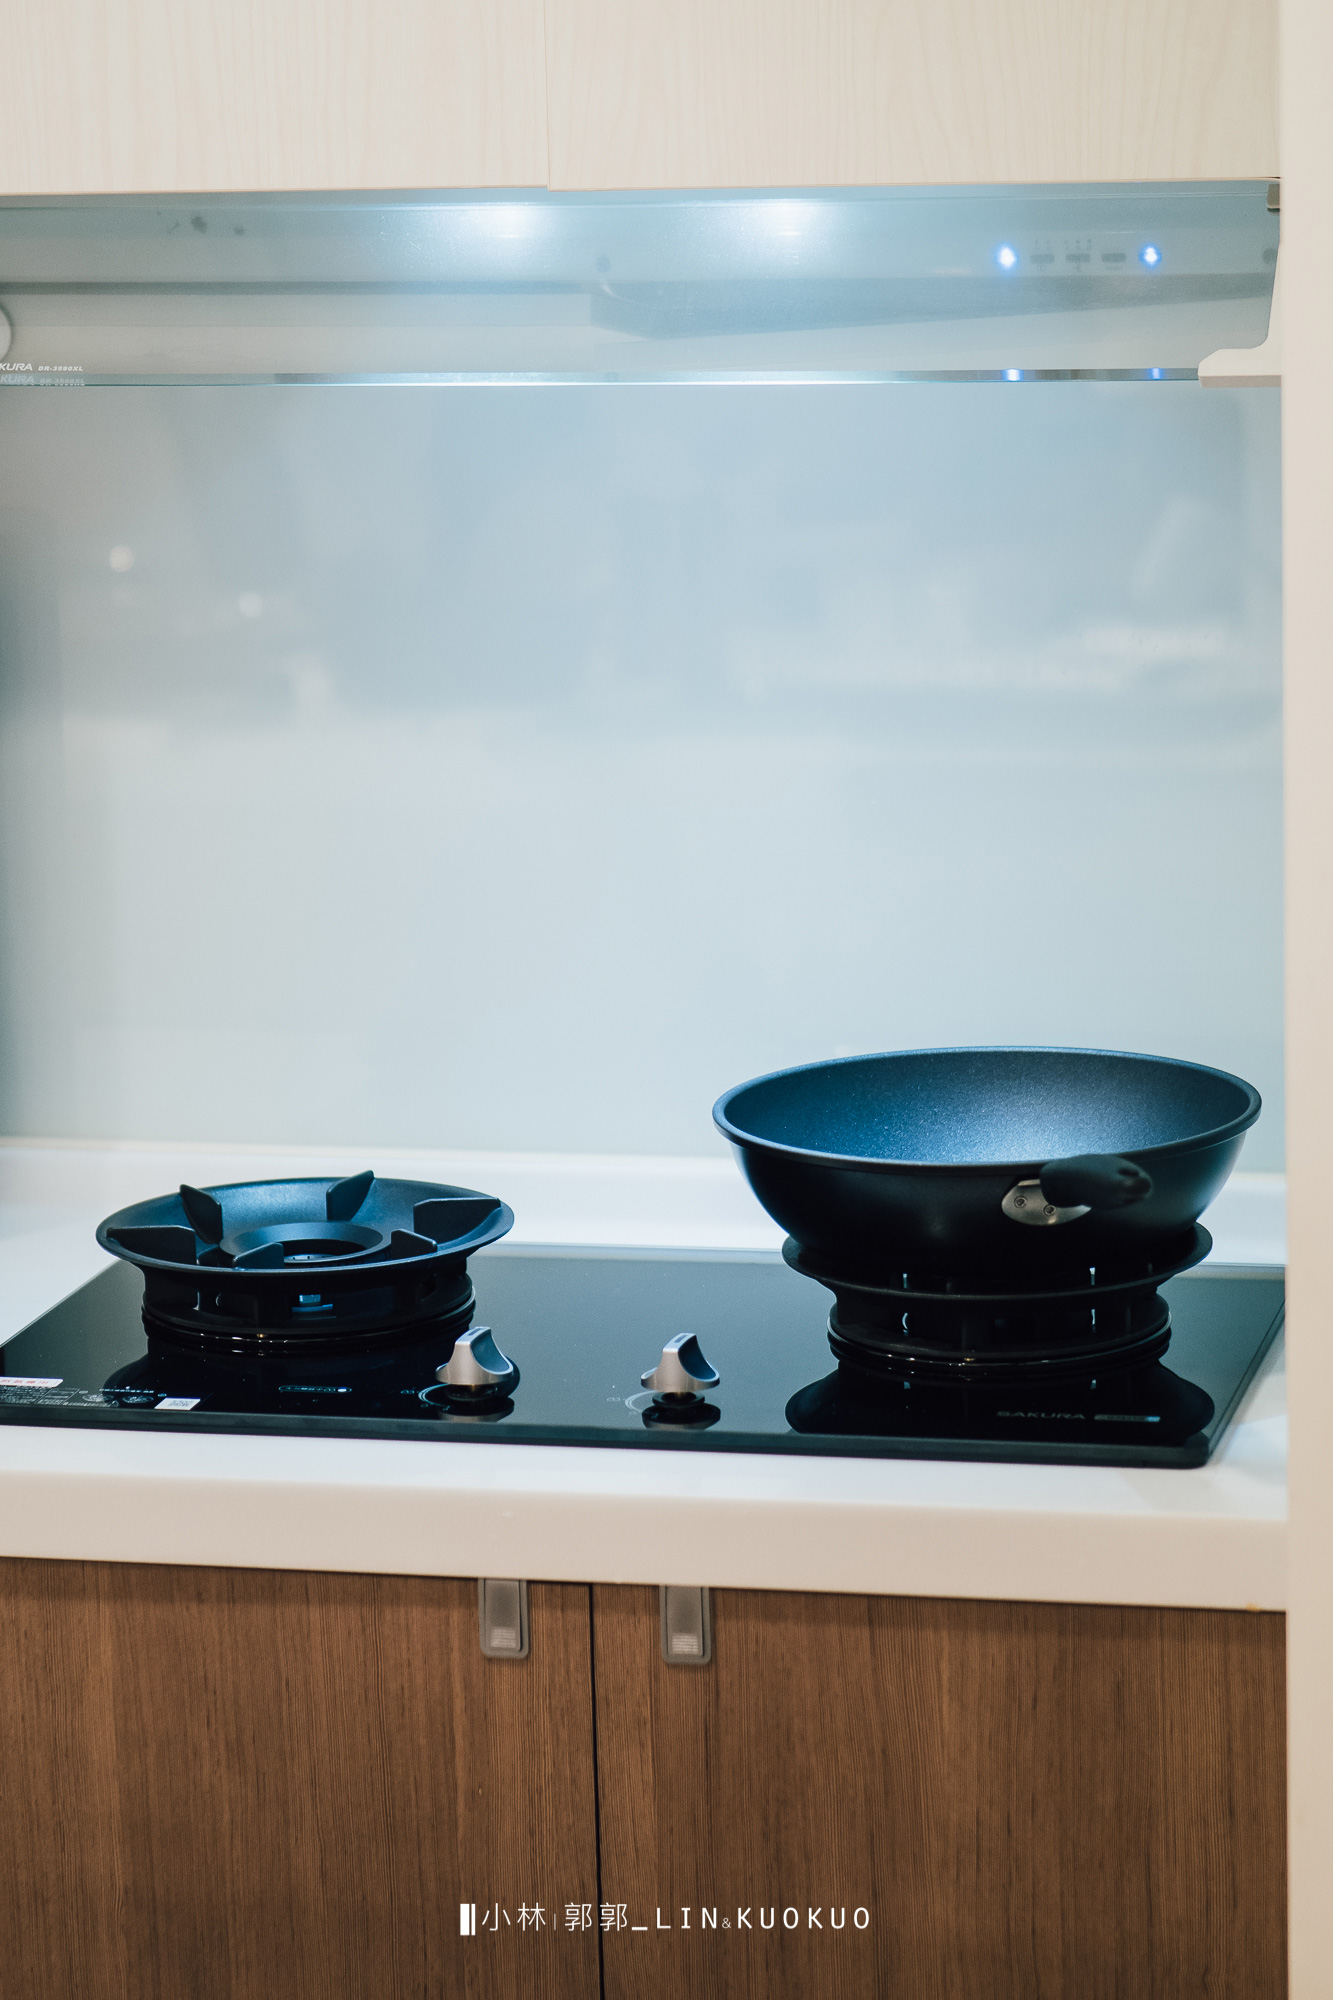gasoven: (4, 1161, 1308, 1491)
